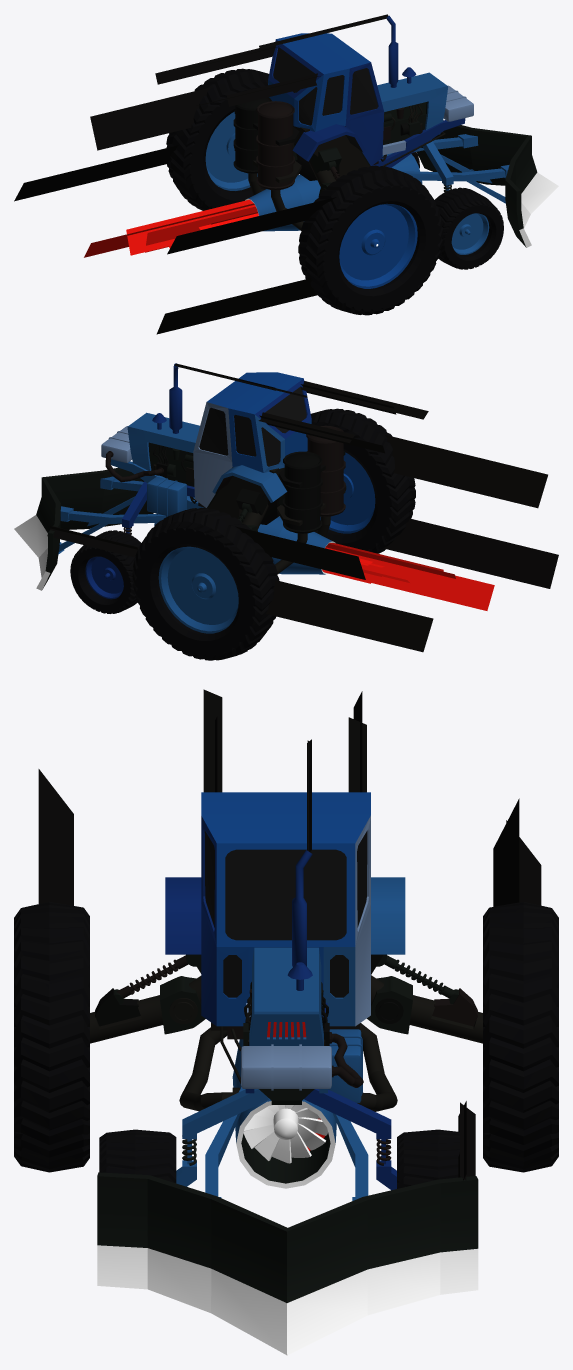
3 renders of one model, top to bottom at view 1: azimuth 30°, elevation 25°; view 2: azimuth 150°, elevation 25°; view 3: azimuth 270°, elevation 25°, orthographic. The views are drawn at different scales.
Parts seen in each view (by area): view 1: Line032, Line002, Line027, Line039, Line036, Plane011, Line001, Cylinder018, Plane006, Plane001, Plane002, Line026 (+15 smaller); view 2: Line027, Line002, Line032, Plane006, Plane001, Plane002, Line039, Line034, Plane007, Line001, Cylinder017, Plane011 (+18 smaller); view 3: Line039, Line002, Line032, Line027, Line001, Line026, Plane002, Box001, Line036, Line034, Line003, Line010 (+19 smaller).
Boxes of the visible parts, bbox=[...] form: Line032: bbox=[298, 165, 443, 315]; Line002: bbox=[268, 33, 384, 165]; Line027: bbox=[166, 68, 299, 210]; Line039: bbox=[417, 120, 558, 247]; Line036: bbox=[434, 187, 503, 269]; Plane011: bbox=[90, 87, 210, 150]; Line001: bbox=[377, 72, 447, 144]; Cylinder018: bbox=[256, 101, 294, 190]; Plane006: bbox=[156, 278, 317, 334]; Plane001: bbox=[14, 145, 178, 201]; Plane002: bbox=[167, 197, 336, 254]; Line026: bbox=[245, 153, 422, 231]; Line027: bbox=[132, 507, 279, 660]; Line002: bbox=[193, 372, 311, 507]; Line032: bbox=[279, 408, 415, 553]; Plane006: bbox=[383, 518, 558, 588]; Plane001: bbox=[266, 580, 433, 652]; Plane002: bbox=[385, 435, 547, 508]; Line039: bbox=[14, 467, 153, 590]; Line034: bbox=[70, 530, 141, 613]; Plane007: bbox=[322, 547, 494, 610]; Line001: bbox=[127, 412, 199, 486]; Cylinder017: bbox=[282, 451, 322, 533]; Plane011: bbox=[235, 526, 365, 579]; Line039: bbox=[97, 1172, 478, 1355]; Line002: bbox=[201, 792, 370, 1026]; Line032: bbox=[14, 901, 89, 1172]; Line027: bbox=[483, 901, 558, 1172]; Line001: bbox=[249, 947, 323, 1045]; Line026: bbox=[232, 1039, 336, 1188]; Plane002: bbox=[38, 769, 73, 905]; Box001: bbox=[241, 1044, 331, 1090]; Line036: bbox=[99, 1129, 176, 1183]; Line034: bbox=[397, 1129, 459, 1188]; Line003: bbox=[165, 877, 201, 954]; Line010: bbox=[371, 877, 405, 954].
Size of the model in its own units: 323 by 144 by 183.
